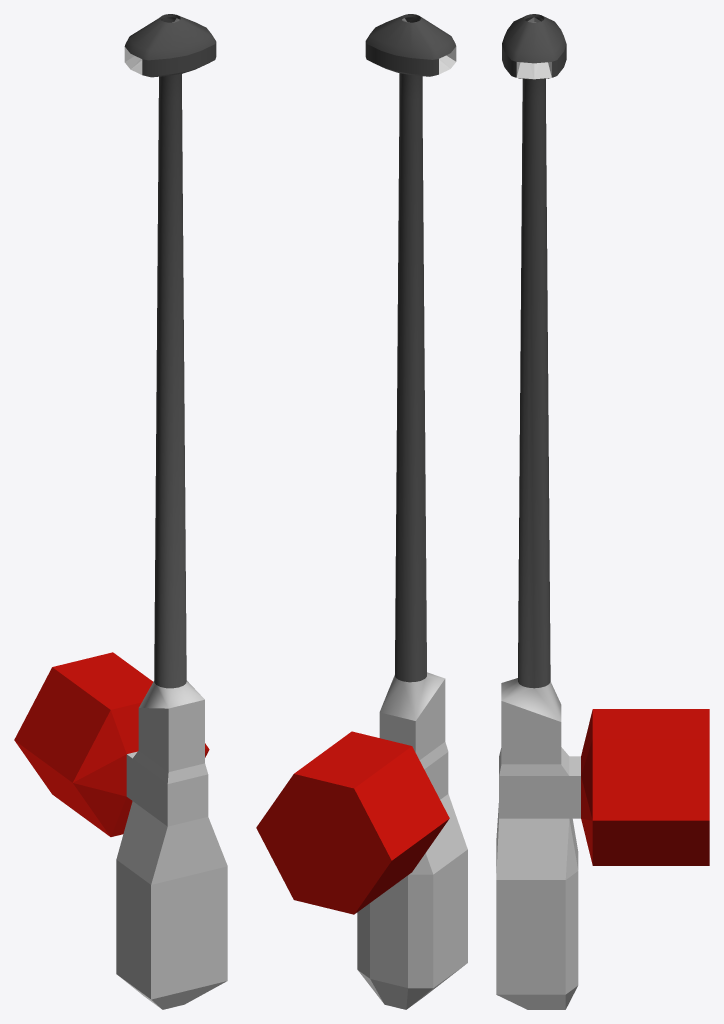
Rendered from Cannon.fbx.
The picture shows the model from 3 angles, left to right: view 1: azimuth 30°, elevation 25°; view 2: azimuth 150°, elevation 25°; view 3: azimuth 270°, elevation 25°; orthographic projection.
Parts seen in each view (by area): view 1: Cannon; view 2: Cannon; view 3: Cannon.
Part boxes in pixels (left/top/right/bottom): Cannon: left=14, top=14, right=227, bottom=1009; Cannon: left=256, top=14, right=467, bottom=1009; Cannon: left=496, top=14, right=709, bottom=1009.
Size of the model in its own units: 67.5 by 465 by 91.26.
